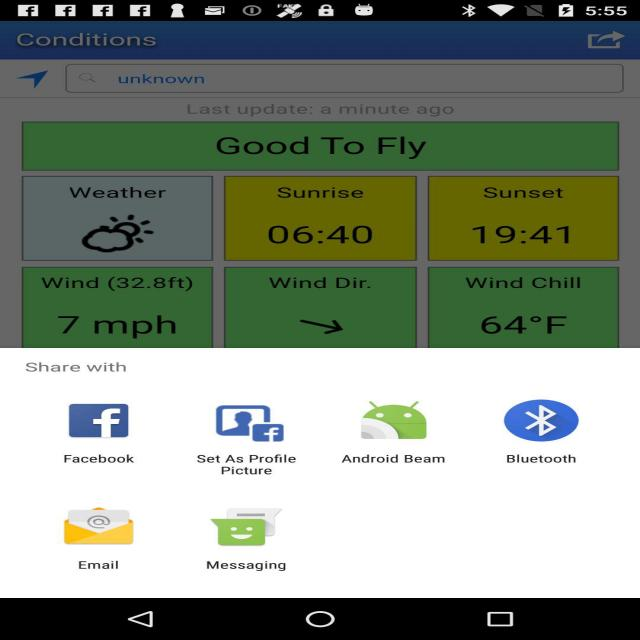button: (11, 380, 616, 590)
